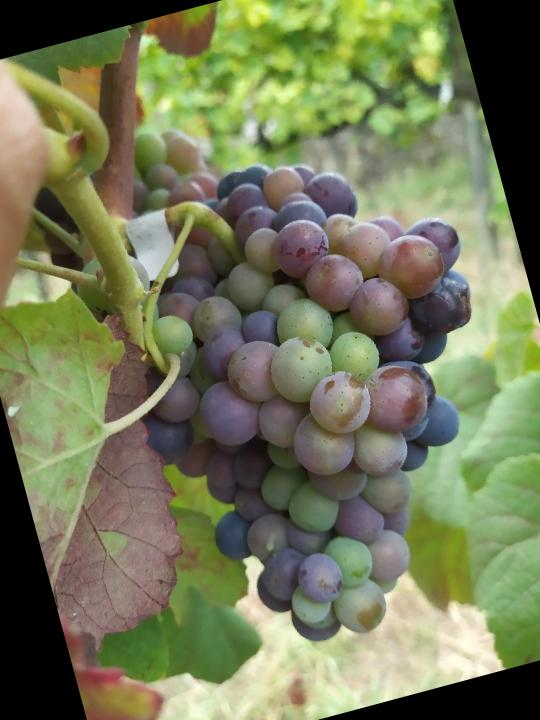grape: (82, 114, 540, 679)
